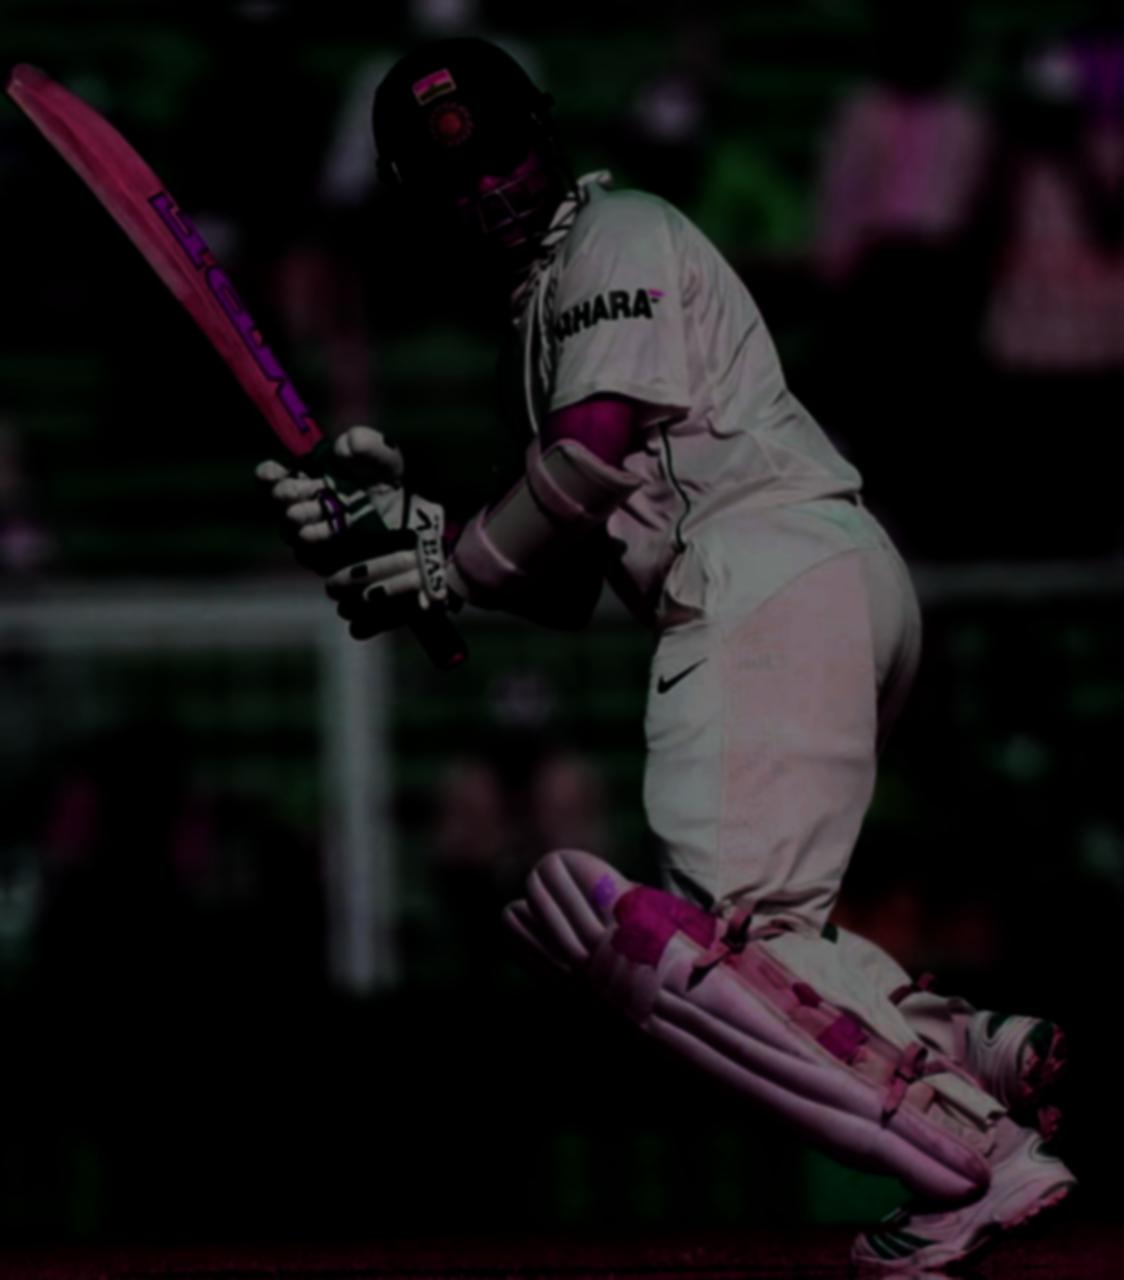batsman: (196, 0, 1078, 1280)
